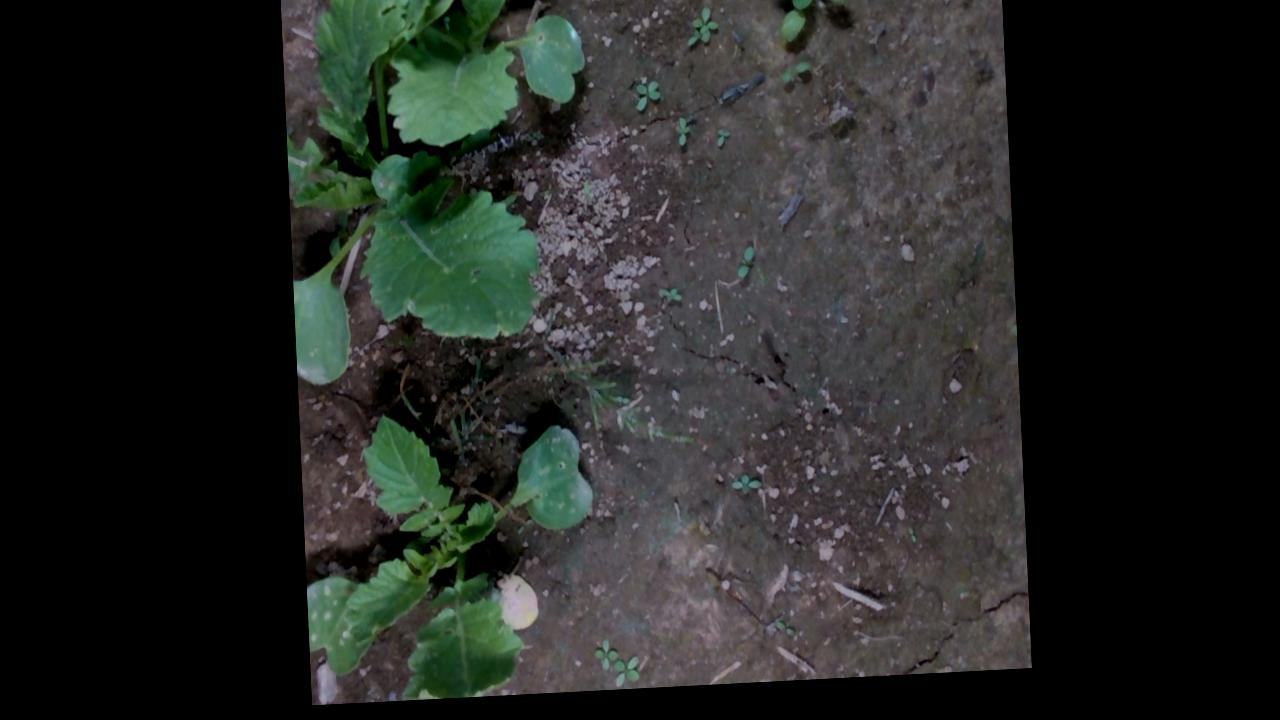weed: (632, 85, 660, 120), (723, 481, 758, 507), (731, 253, 753, 290), (670, 122, 692, 157), (654, 293, 680, 315), (710, 133, 731, 159)
